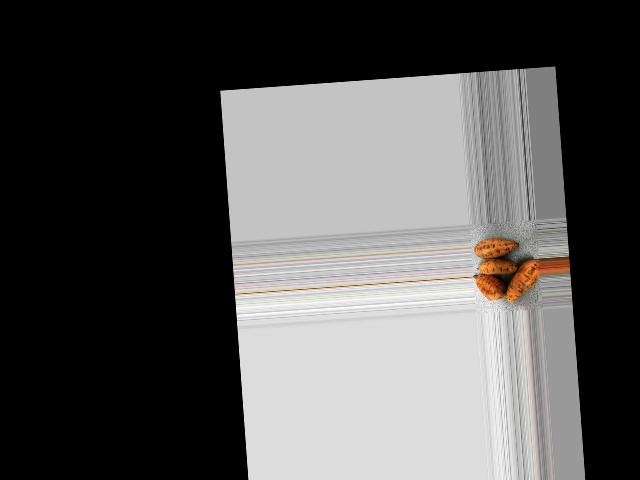sweet_potato: (503, 253, 542, 306)
